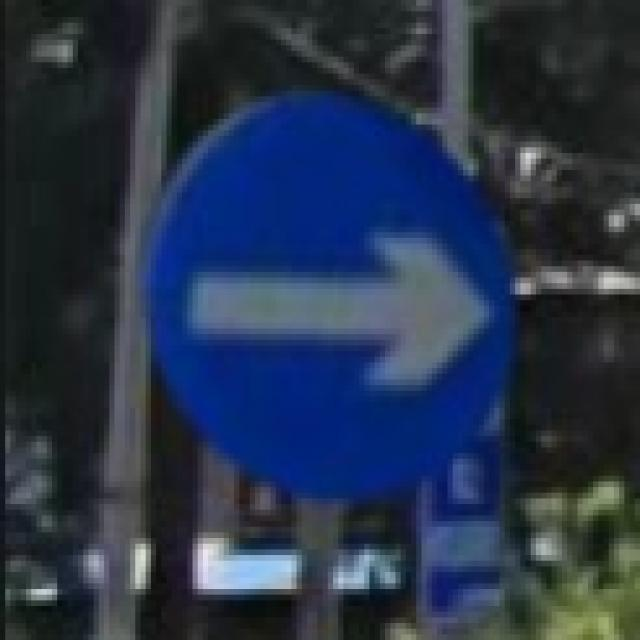Turn Right: (150, 97, 514, 488)
